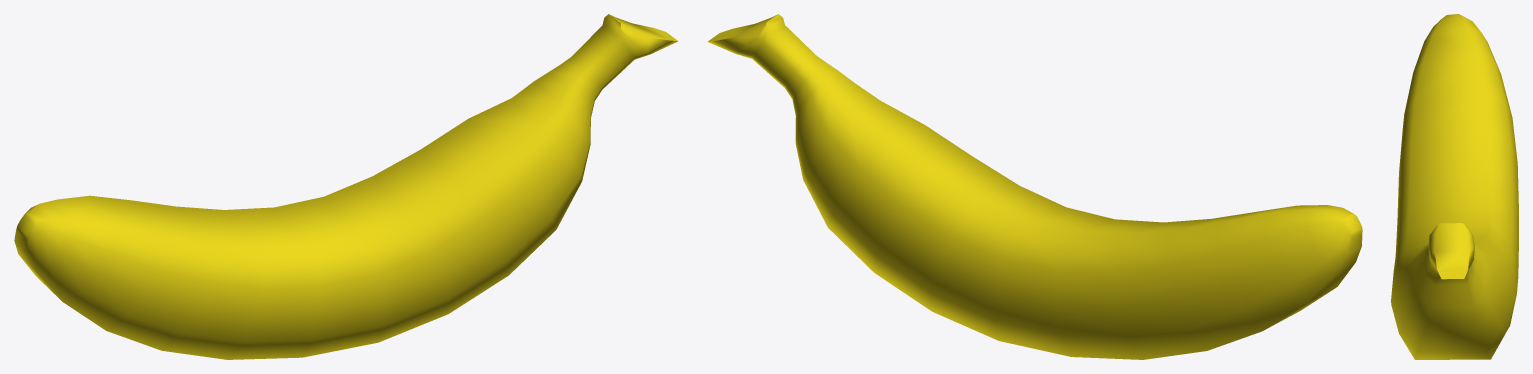
Rendered from Platano.fbx.
3 views of the same model, side by side, from view 1: azimuth 30°, elevation 25°; view 2: azimuth 150°, elevation 25°; view 3: azimuth 270°, elevation 25° (orthographic). The views are drawn at different scales.
Visible parts, largest first — view 1: platano; view 2: platano; view 3: platano.
Part boxes in pixels (box(x1,y1,x2,y2)): platano: box(14, 14, 678, 359); platano: box(707, 14, 1362, 359); platano: box(1391, 14, 1518, 359).
Size of the model in its own units: 17.98 by 6.56 by 3.35.
